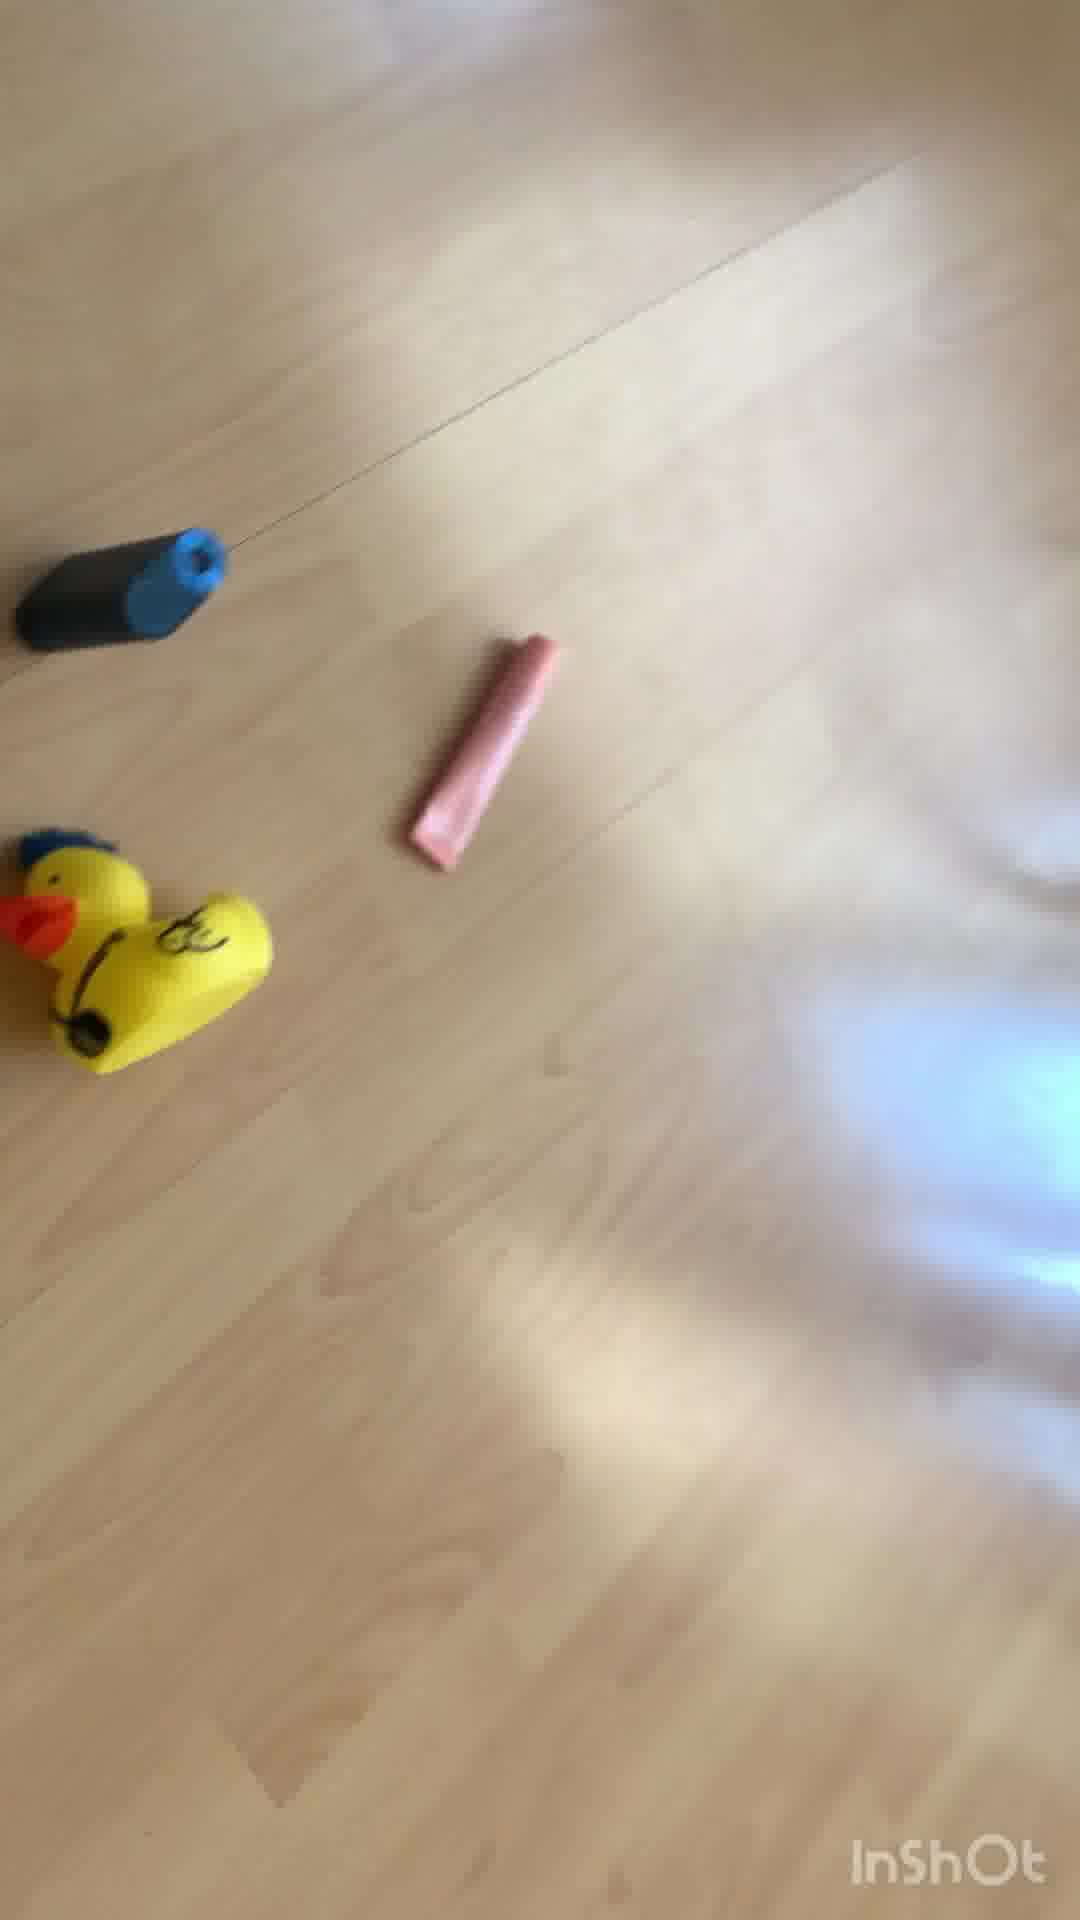duck: (11, 825, 272, 1077)
glo: (1, 526, 251, 662)
lip balm: (410, 621, 554, 872)
